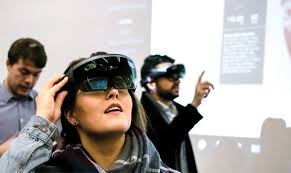hololens: (59, 54, 138, 99)
